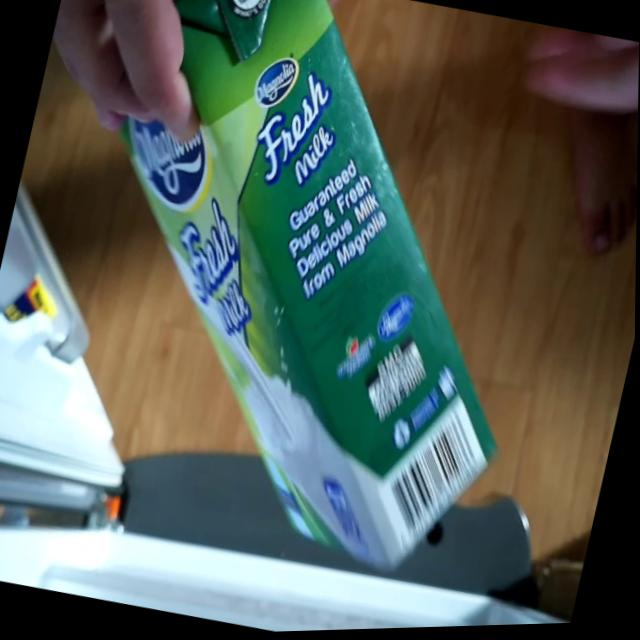milk: (0, 0, 585, 608)
